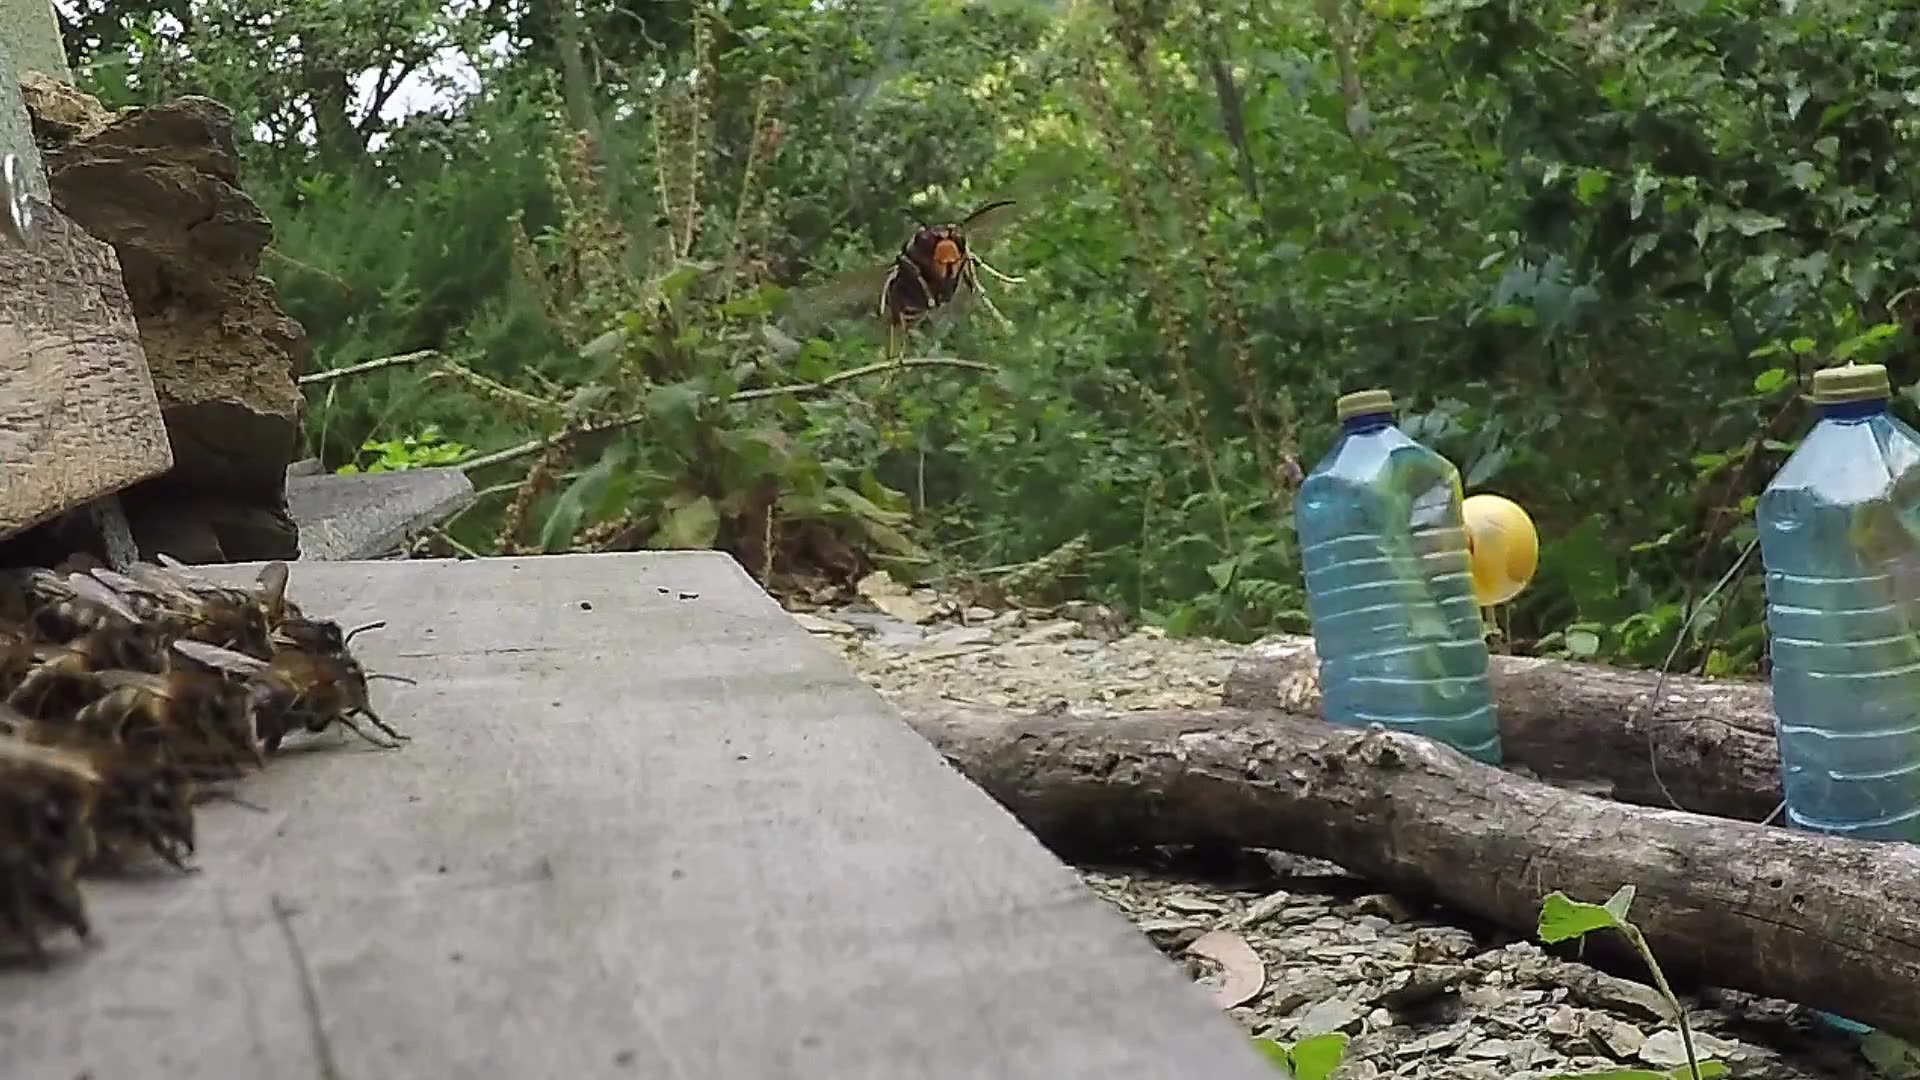bee: (1, 570, 375, 938)
hornet: (864, 212, 1001, 331)
